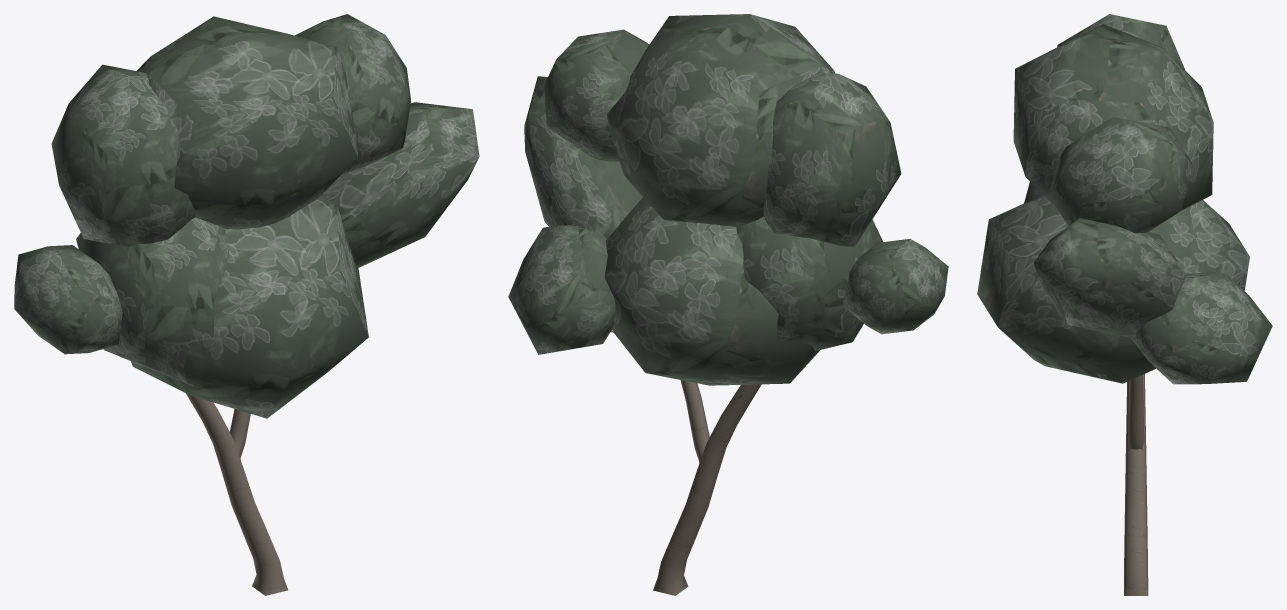
Rendered from BirdCherryTree.fbx.
3 views of the same model, side by side, from view 1: azimuth 30°, elevation 25°; view 2: azimuth 150°, elevation 25°; view 3: azimuth 270°, elevation 25° (orthographic). The views are drawn at different scales.
Visible parts, largest first — view 1: BirdCherryTree; view 2: BirdCherryTree; view 3: BirdCherryTree.
Part boxes in pixels (x1,y1,x2,y2): BirdCherryTree: (14,14,479,595); BirdCherryTree: (508,14,948,595); BirdCherryTree: (977,14,1272,595).
Bounding box in the file's own units: 3.02 × 3.82 × 1.93.
Materials: 2 (2 with a texture image).
